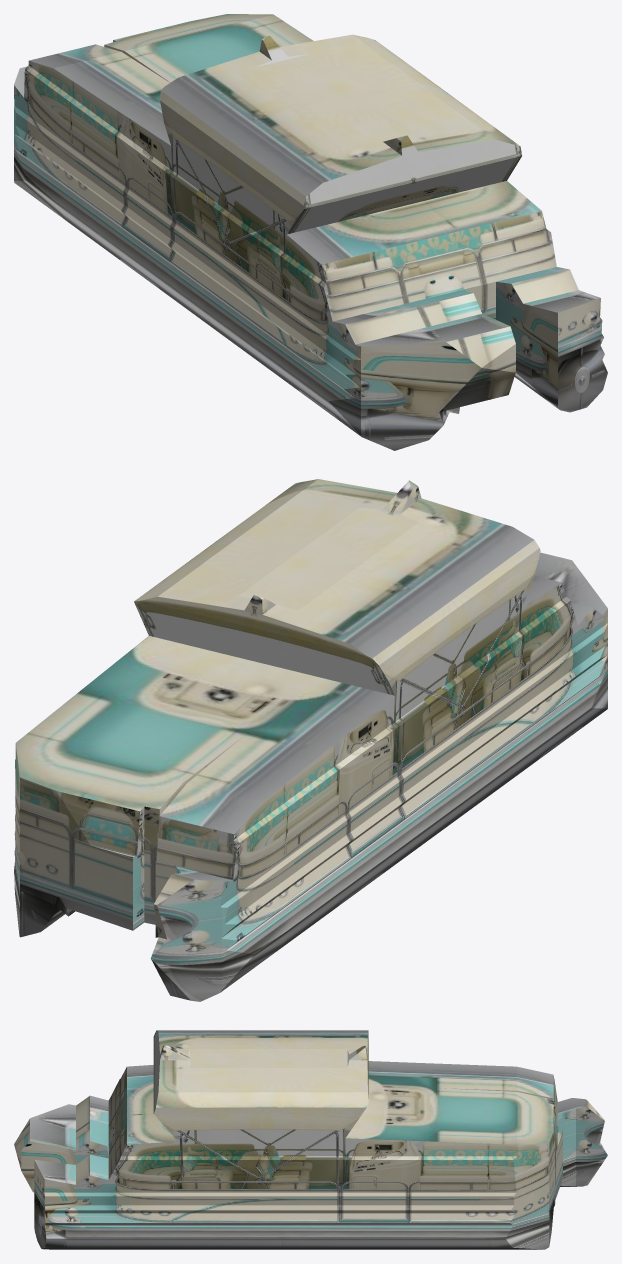
The model's file is pontoon_boat.glb.
3 renders of one model, top to bottom at view 1: azimuth 30°, elevation 25°; view 2: azimuth 150°, elevation 25°; view 3: azimuth 270°, elevation 25°, orthographic. The views are drawn at different scales.
Visible parts, largest first — view 1: pontoon_boat; view 2: pontoon_boat; view 3: pontoon_boat.
Part boxes in pixels (x1,y1,x2,y2): pontoon_boat: (14,14,607,450); pontoon_boat: (14,479,607,1001); pontoon_boat: (14,1030,607,1249).
Size of the model in its own units: 2.54 by 2.4 by 7.48.
2 materials, 1 textured.
